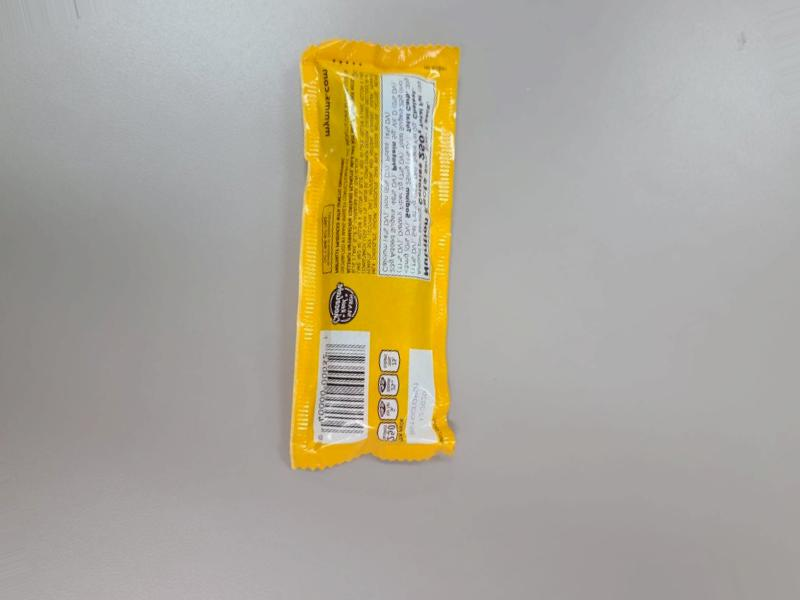m&m: (282, 44, 457, 443)
